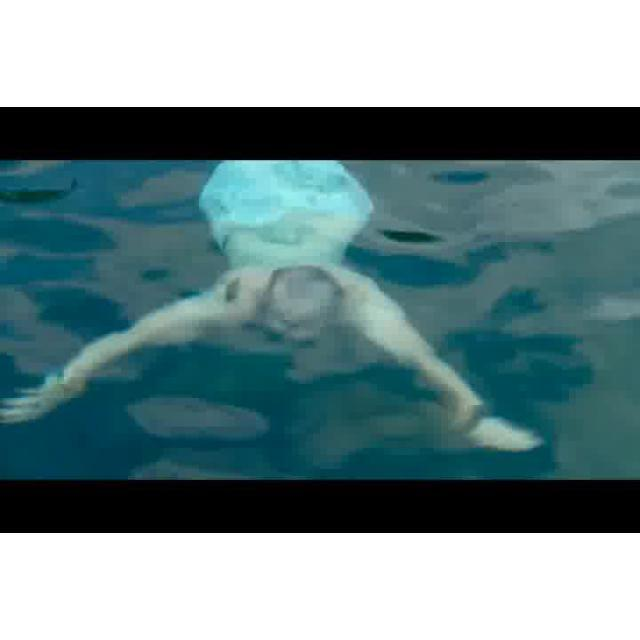human: (3, 163, 542, 453)
